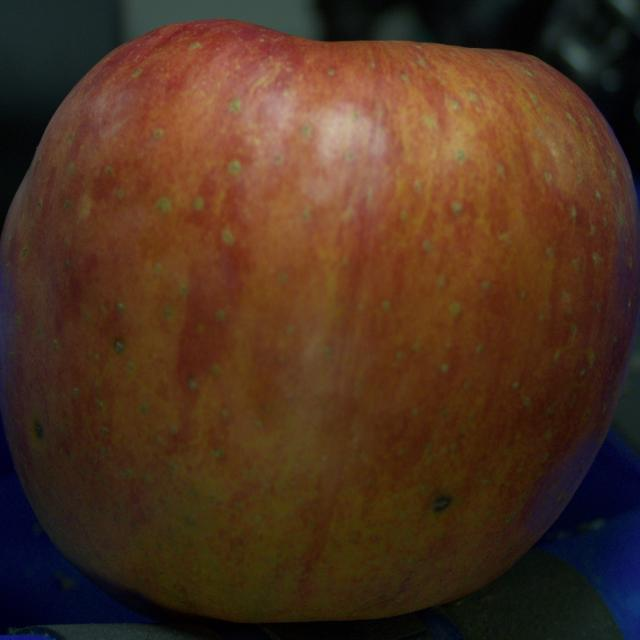apple: (0, 20, 639, 622)
pest: (432, 496, 452, 512), (34, 421, 42, 438), (114, 341, 123, 352)
